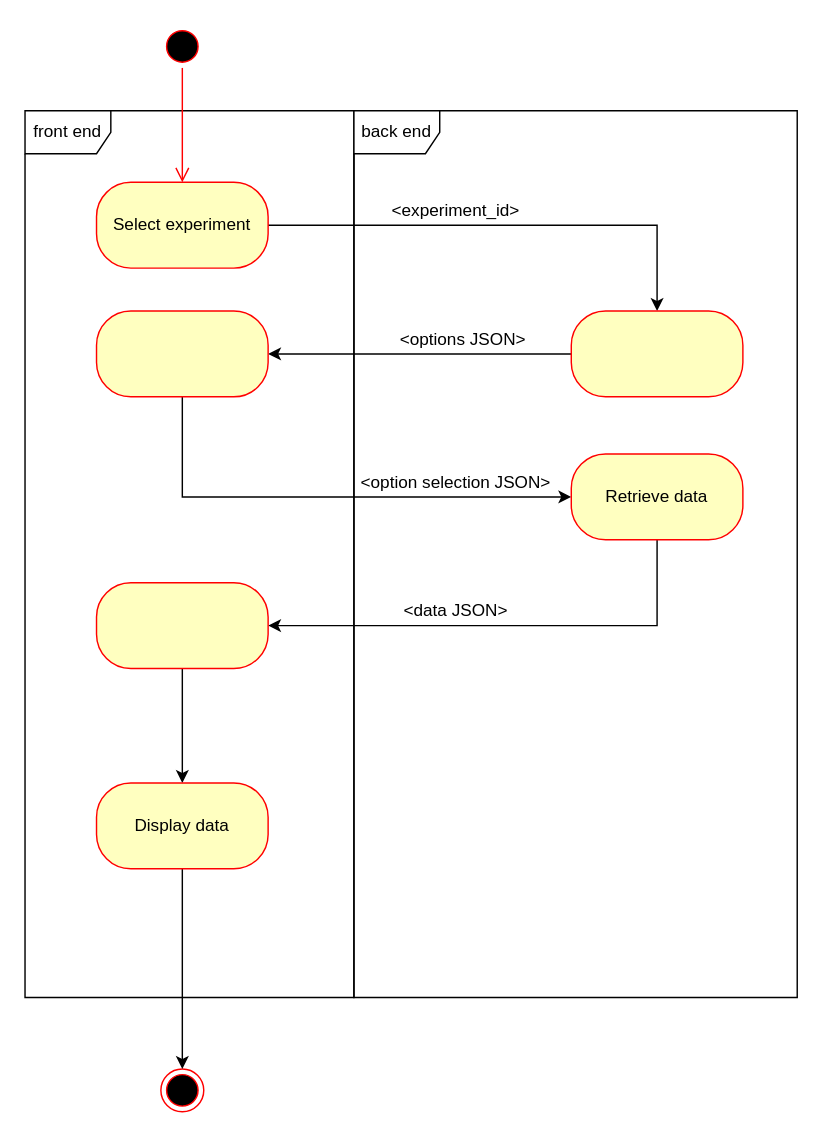
Image size: 822x1137. Some labels were removed from this diagram. Here are the shapes that lost their labels. From the top down, the centre of each, then its label:
At pixel 181 353: "Select options".
At pixel 656 353: "GET data options".
At pixel 181 625: "Select data display options".
